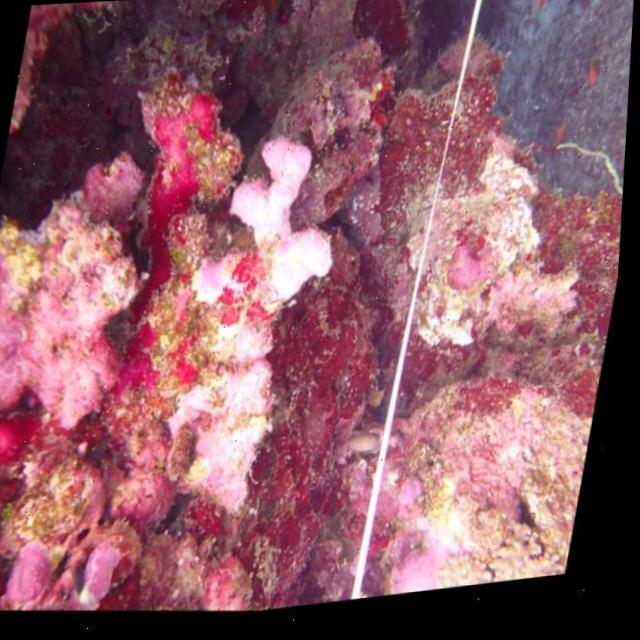Bleached Coral: (147, 106, 374, 540)
